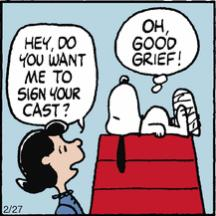snoopy: (105, 73, 203, 175)
